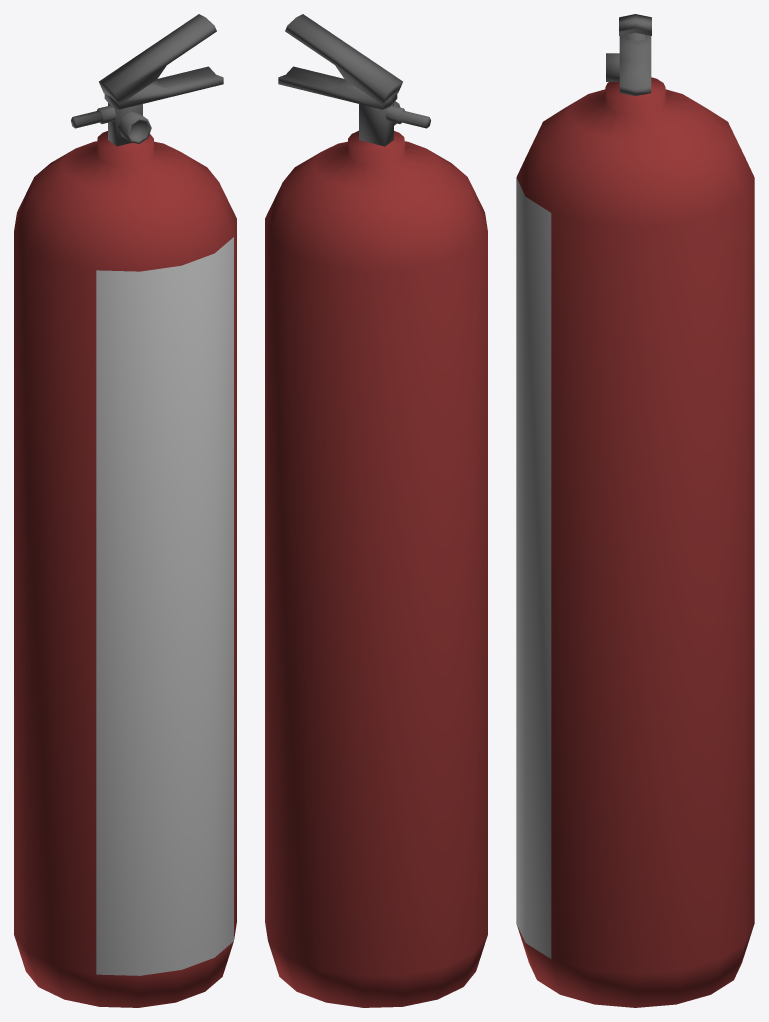
Rendered from Extintor.fbx.
3 renders of one model, left to right at view 1: azimuth 30°, elevation 25°; view 2: azimuth 150°, elevation 25°; view 3: azimuth 270°, elevation 25°, orthographic. The views are drawn at different scales.
Parts seen in each view (by area): view 1: Extintor; view 2: Extintor; view 3: Extintor.
Boxes of the visible parts, bbox=[...] form: Extintor: bbox=[14, 14, 236, 1007]; Extintor: bbox=[265, 14, 487, 1007]; Extintor: bbox=[516, 14, 754, 1007].
Size of the model in its own units: 14.94 by 68.16 by 14.94.
